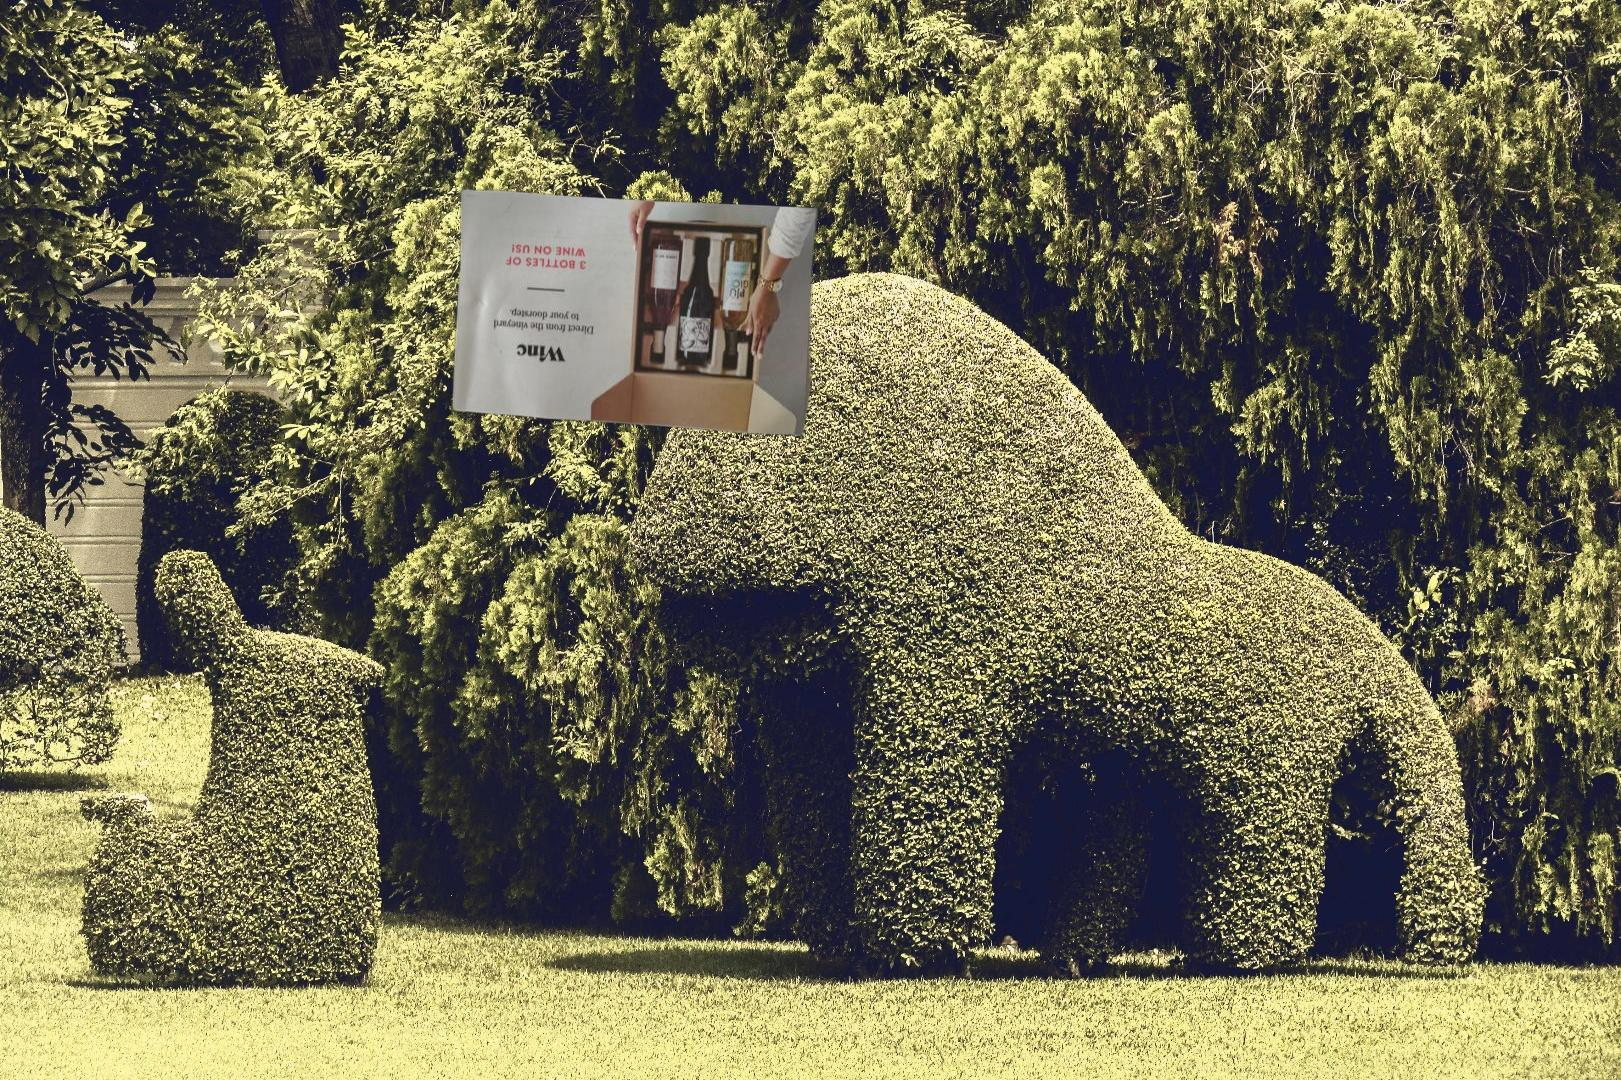paper: (448, 186, 823, 440)
trashbox-cardboard: (1239, 998, 1621, 1080)
